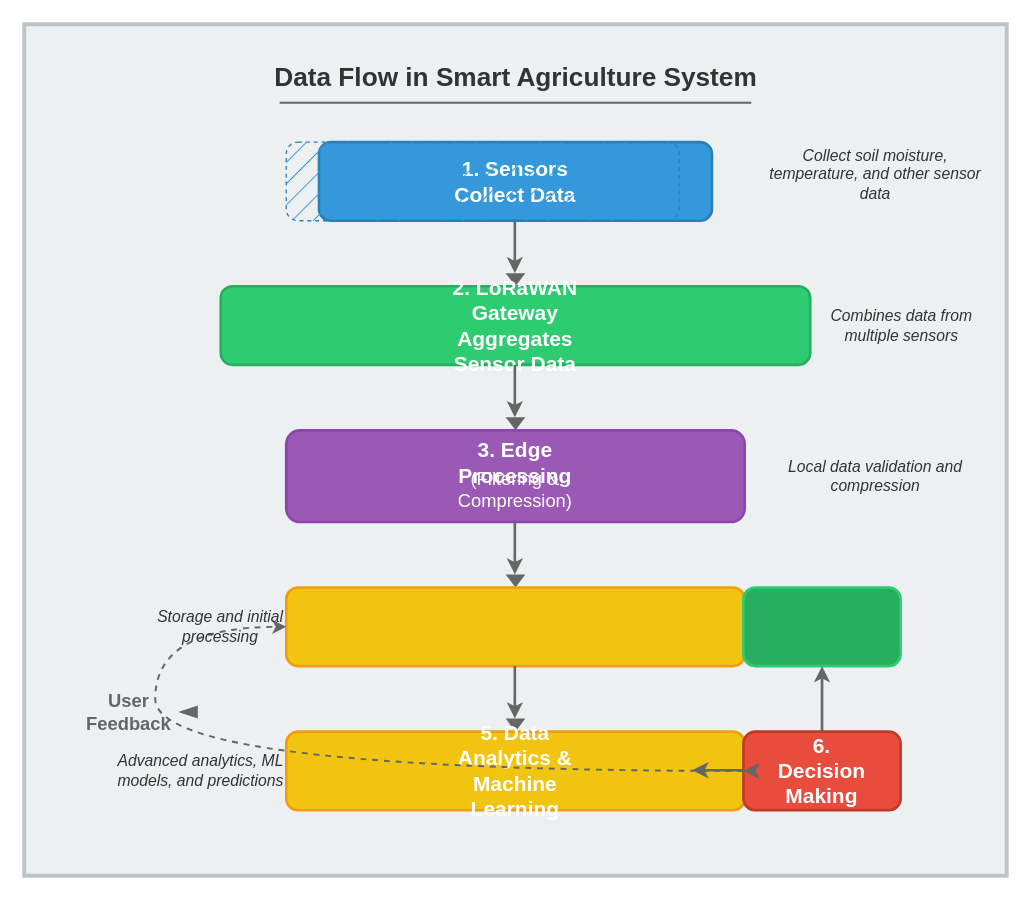
Some shapes in this 1031 by 900 pixel diagram are drawn without their labels. Each missing label, with the centre of its shape:
4. Cloud Storage & Processing: the point at 514,626
7. Irrigation Control: the point at 821,626
